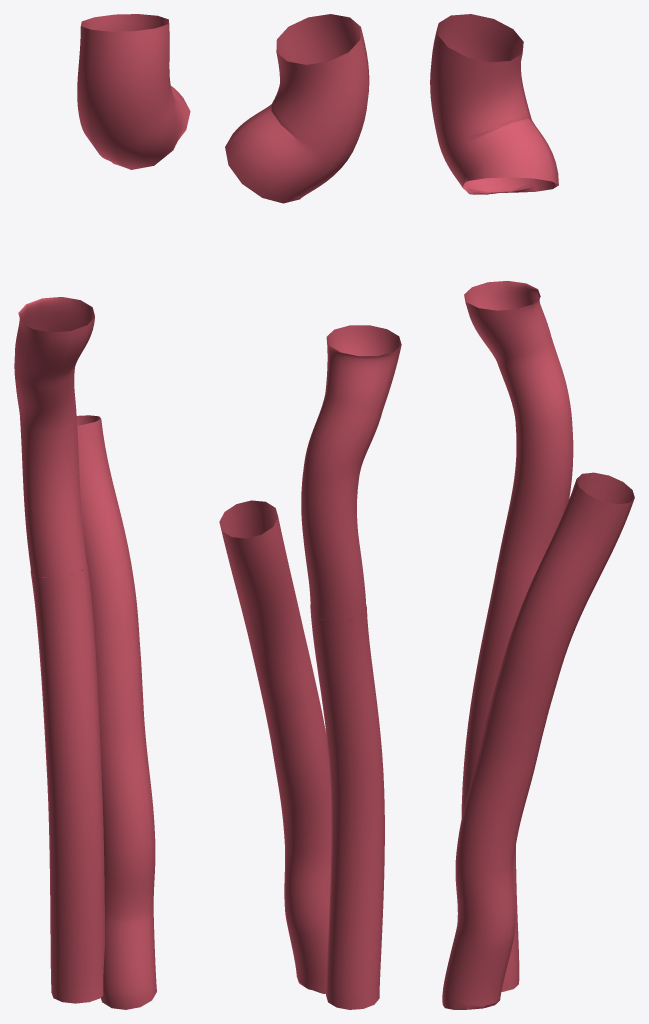
Rendered from grandi-vasi-test.glb.
3 views of the same model, side by side, from view 1: azimuth 30°, elevation 25°; view 2: azimuth 150°, elevation 25°; view 3: azimuth 270°, elevation 25° (orthographic). The views are drawn at different scales.
Visible parts, largest first — view 1: Abdominal aorta, Inferior vena cava (abdominal part), Inferior vena cava (thoracic part), Ascending aorta; view 2: Abdominal aorta, Inferior vena cava (abdominal part), Ascending aorta, Inferior vena cava (thoracic part); view 3: Abdominal aorta, Inferior vena cava (thoracic part), Ascending aorta, Inferior vena cava (abdominal part).
Part boxes in pixels (x1,y1,x2,y2): Abdominal aorta: (76, 415, 156, 1009); Inferior vena cava (abdominal part): (30, 564, 104, 1003); Inferior vena cava (thoracic part): (14, 297, 94, 577); Ascending aorta: (77, 14, 190, 169); Abdominal aorta: (219, 500, 331, 993); Inferior vena cava (abdominal part): (310, 604, 384, 1009); Ascending aorta: (225, 14, 369, 203); Inferior vena cava (thoracic part): (301, 325, 401, 621); Abdominal aorta: (442, 472, 634, 1009); Inferior vena cava (thoracic part): (464, 281, 573, 578); Ascending aorta: (430, 14, 558, 194); Inferior vena cava (abdominal part): (461, 562, 532, 991).
Bounding box in the file's own units: 0.0585 × 0.3349 × 0.0634.
